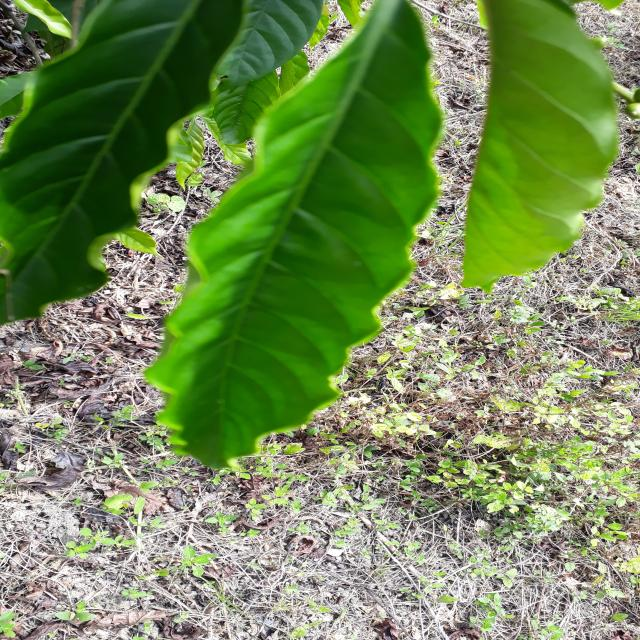Sanas: (141, 0, 445, 473)
